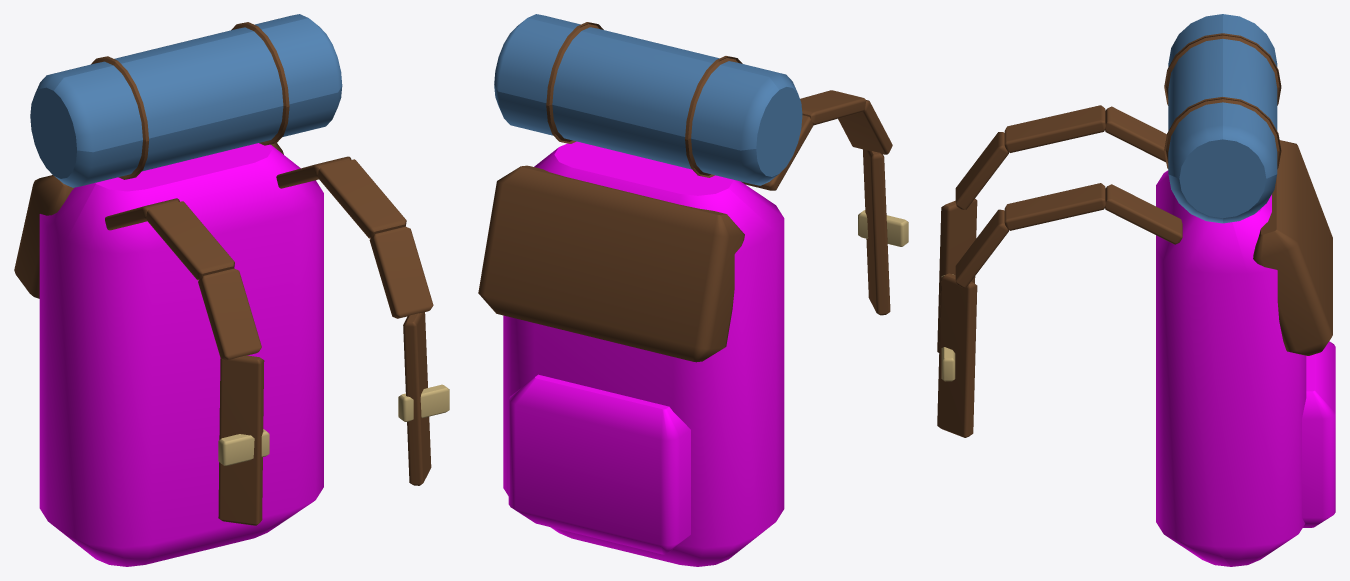
Rendered from porte_sac_a_dos.glb.
3 renders of one model, left to right at view 1: azimuth 30°, elevation 25°; view 2: azimuth 150°, elevation 25°; view 3: azimuth 270°, elevation 25°, orthographic. The views are drawn at different scales.
Parts seen in each view (by area): view 1: poitrine__sac_teinte.002, poitrine__sac_couverture.002, poitrine__sac_sac_cuir.002, poitrine__sac_boucle.002; view 2: poitrine__sac_teinte.002, poitrine__sac_sac_cuir.002, poitrine__sac_couverture.002, poitrine__sac_boucle.002; view 3: poitrine__sac_teinte.002, poitrine__sac_sac_cuir.002, poitrine__sac_couverture.002.
Boxes of the visible parts, x1=… form: poitrine__sac_teinte.002: x1=39, y1=143, x2=323, y2=566; poitrine__sac_couverture.002: x1=30, y1=14, x2=342, y2=187; poitrine__sac_sac_cuir.002: x1=14, y1=22, x2=433, y2=525; poitrine__sac_boucle.002: x1=218, y1=384, x2=449, y2=465; poitrine__sac_teinte.002: x1=503, y1=141, x2=784, y2=566; poitrine__sac_sac_cuir.002: x1=478, y1=22, x2=892, y2=362; poitrine__sac_couverture.002: x1=494, y1=14, x2=802, y2=185; poitrine__sac_boucle.002: x1=858, y1=210, x2=908, y2=246; poitrine__sac_teinte.002: x1=1156, y1=170, x2=1335, y2=566; poitrine__sac_sac_cuir.002: x1=937, y1=33, x2=1332, y2=437; poitrine__sac_couverture.002: x1=1168, y1=14, x2=1277, y2=223.
Bounding box in the file's own units: 0.34 × 0.61 × 0.4765.
